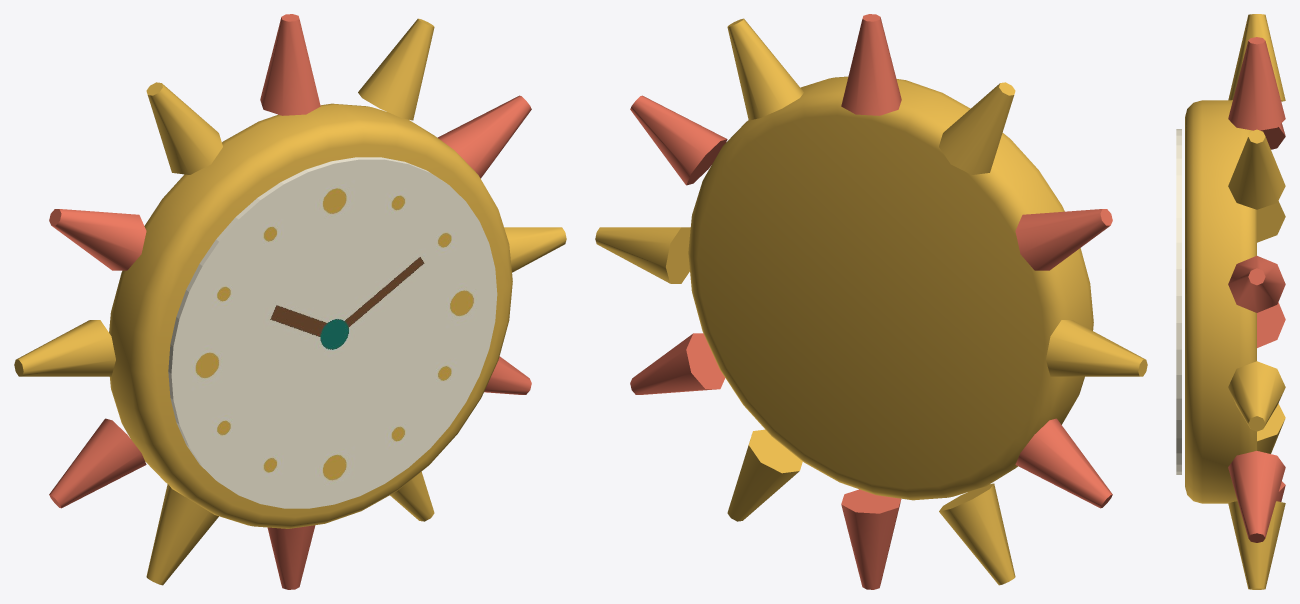
Rendered from clock_b.glb.
The picture shows the model from 3 angles, left to right: view 1: azimuth 30°, elevation 25°; view 2: azimuth 150°, elevation 25°; view 3: azimuth 270°, elevation 25°; orthographic projection. The views are drawn at different scales.
Visible parts, largest first — view 1: cyl, body; view 2: body; view 3: body, cyl.
Part boxes in pixels (bbox=[...]): cyl: bbox=[168, 157, 497, 508]; body: bbox=[14, 14, 566, 589]; body: bbox=[595, 14, 1147, 589]; body: bbox=[1185, 14, 1285, 589]; cyl: bbox=[1176, 129, 1181, 474].
Size of the model in its own units: 0.4 by 0.4 by 0.076.
3 materials, 1 textured.
